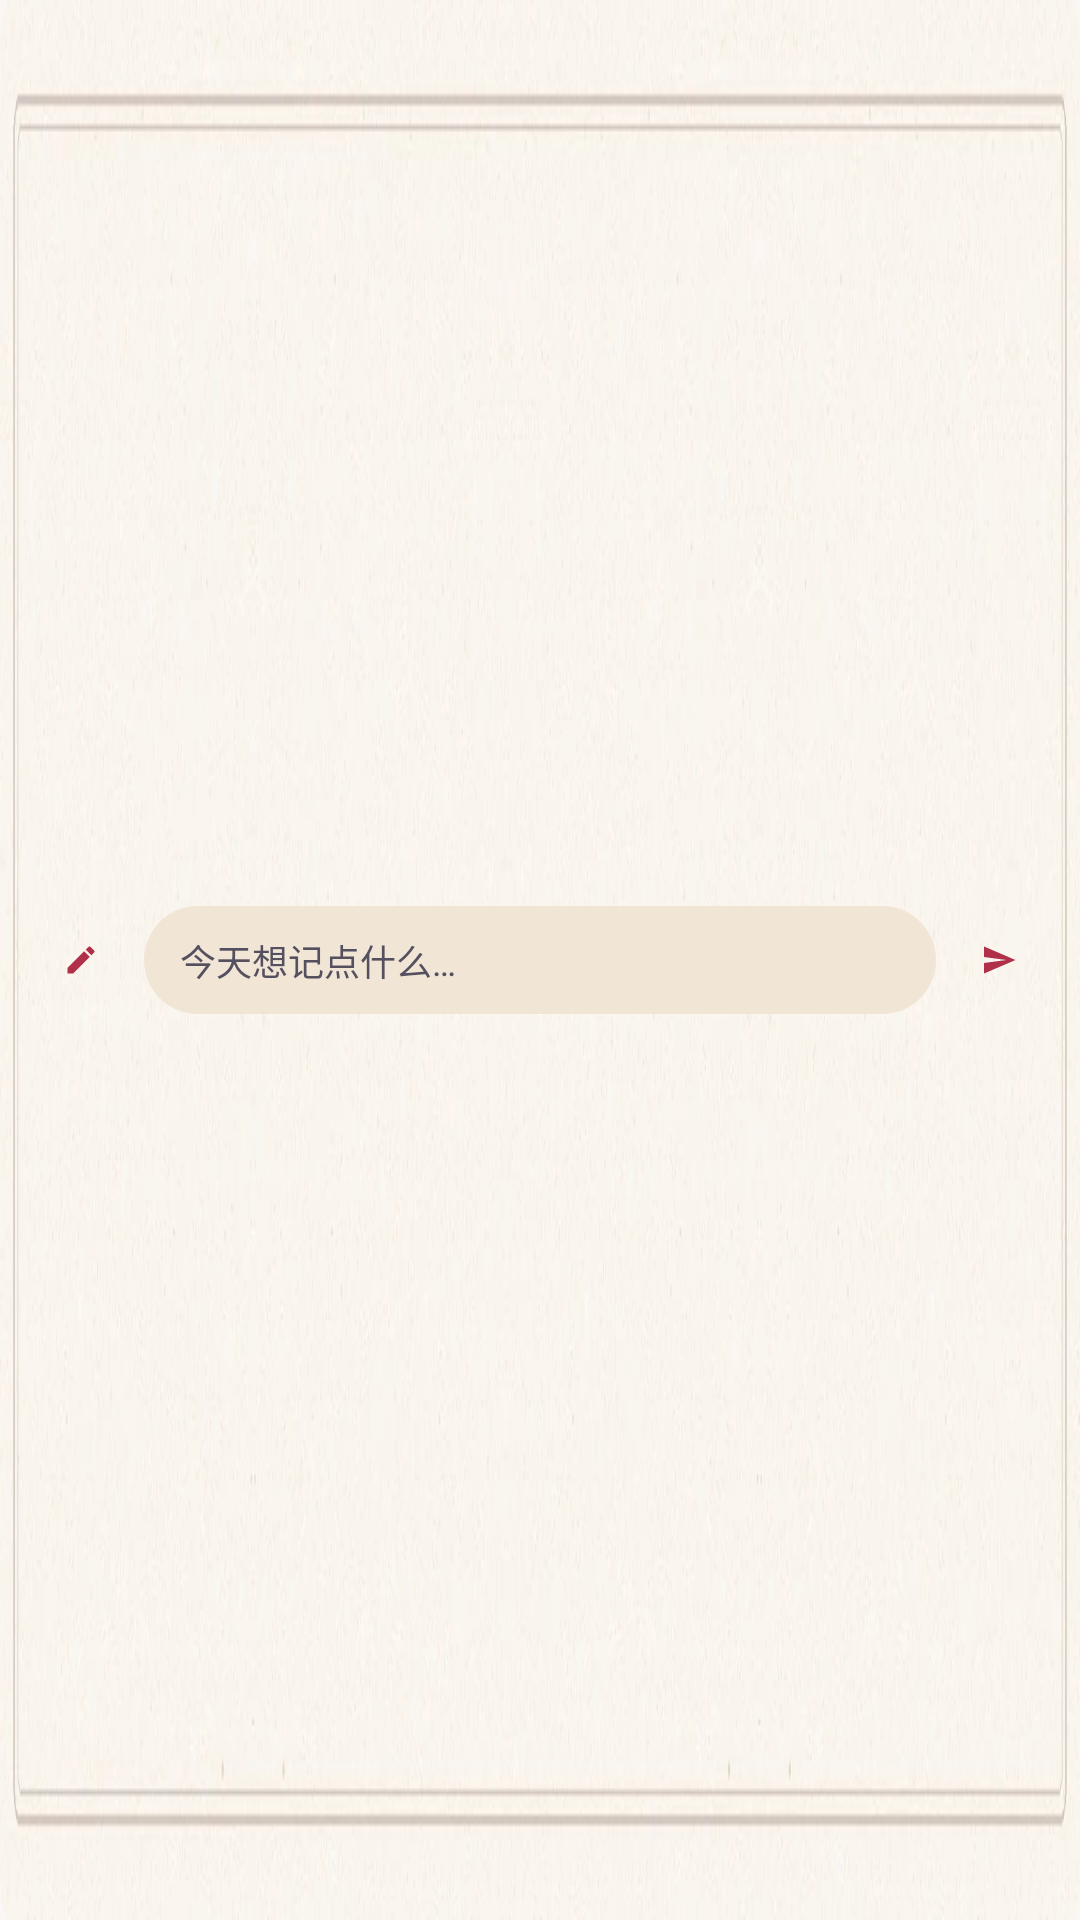

Icon bounding boxes for this 1080px×1920px phone screenshot, format rect(x1, y1, x2, y2):
edit: rect(67, 946, 95, 974)
send: rect(984, 946, 1015, 974)
